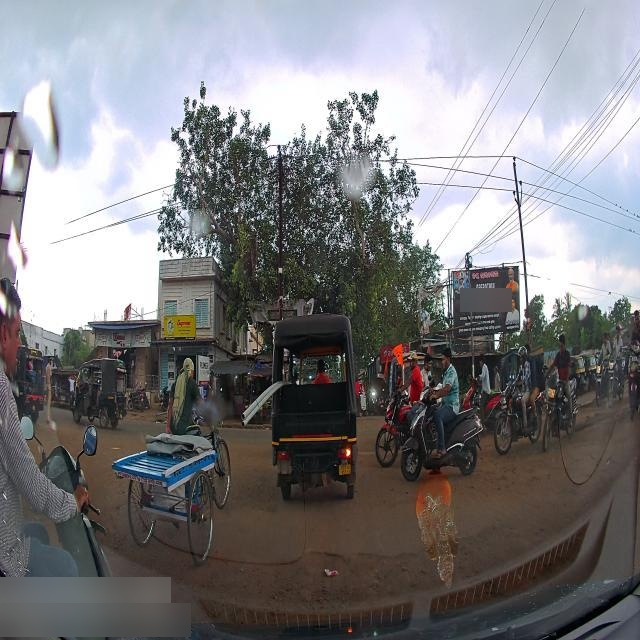pothole: (266, 547, 418, 597)
